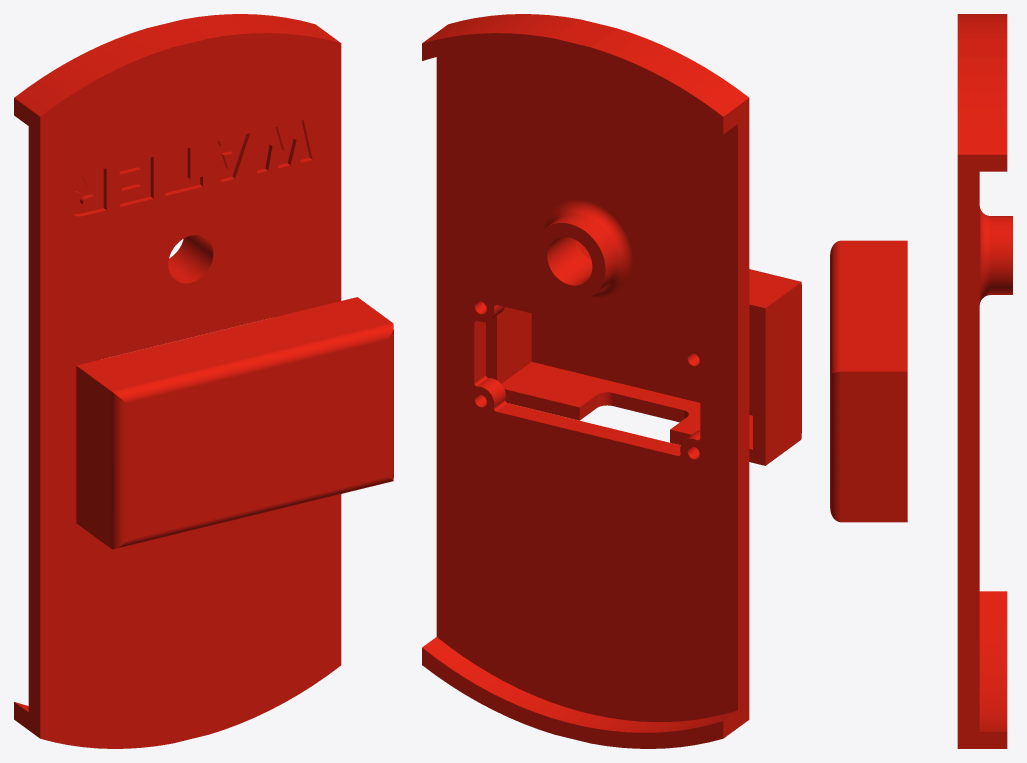
File: DistHolder.glb
The picture shows the model from 3 angles, left to right: view 1: azimuth 30°, elevation 25°; view 2: azimuth 150°, elevation 25°; view 3: azimuth 270°, elevation 25°; orthographic projection. The views are drawn at different scales.
Visible parts, largest first — view 1: Asset3DLoader.sceneRoot; view 2: Asset3DLoader.sceneRoot; view 3: Asset3DLoader.sceneRoot.
Boxes of the visible parts, x1,y1,x2,y2 form: Asset3DLoader.sceneRoot: (14,14,393,748); Asset3DLoader.sceneRoot: (422,14,801,748); Asset3DLoader.sceneRoot: (830,14,1012,748).
Size of the model in its own units: 0.06 by 0.1325 by 0.033.
